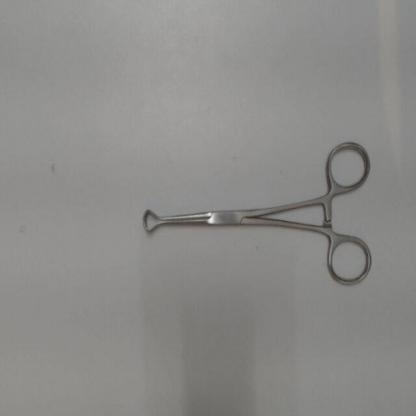Babcock Tissue Forceps: (140, 136, 374, 291)
